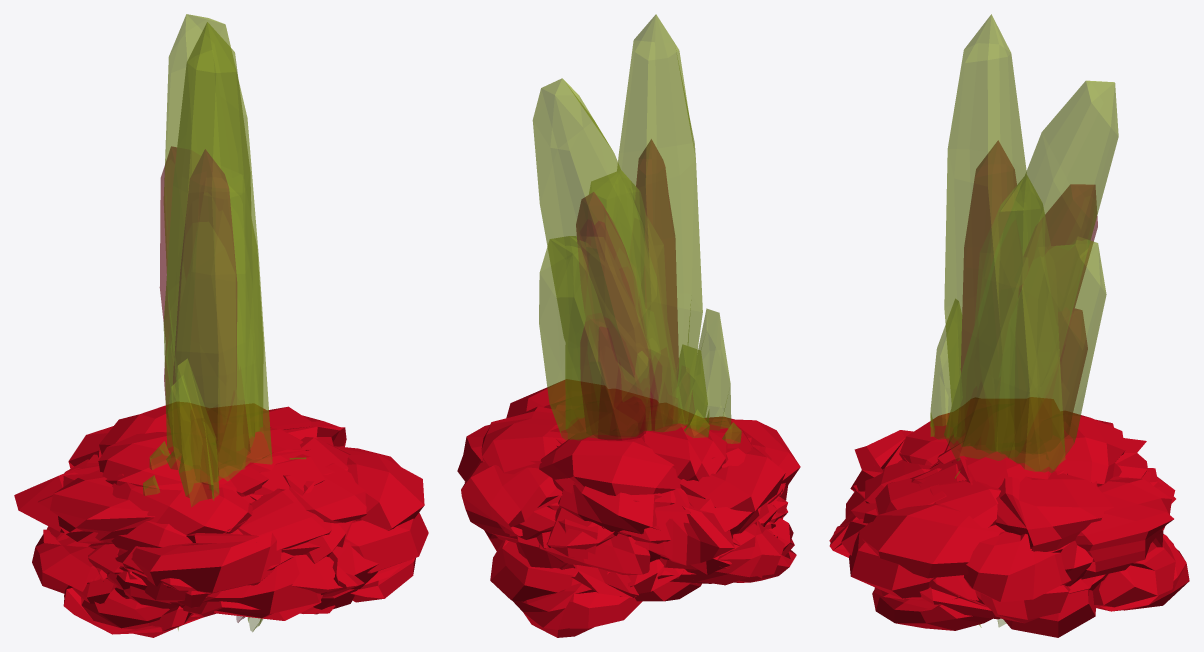
File: crystal24.obj
The picture shows the model from 3 angles, left to right: view 1: azimuth 30°, elevation 25°; view 2: azimuth 150°, elevation 25°; view 3: azimuth 270°, elevation 25°; orthographic projection. The views are drawn at different scales.
Visible parts, largest first — view 1: Cube.001, Circle.001, Circle; view 2: Circle.001, Cube.001, Circle; view 3: Circle.001, Cube.001, Circle.
Boxes of the visible parts, x1=… form: Cube.001: x1=14, y1=405, x2=428, y2=637; Circle.001: x1=143, y1=14, x2=306, y2=631; Circle: x1=159, y1=146, x2=250, y2=622; Circle.001: x1=532, y1=14, x2=741, y2=443; Cube.001: x1=457, y1=380, x2=800, y2=637; Circle: x1=576, y1=139, x2=694, y2=440; Circle.001: x1=930, y1=14, x2=1118, y2=627; Cube.001: x1=829, y1=413, x2=1189, y2=637; Circle: x1=961, y1=140, x2=1097, y2=453.
Size of the model in its own units: 2.79 by 4.72 by 2.59.
